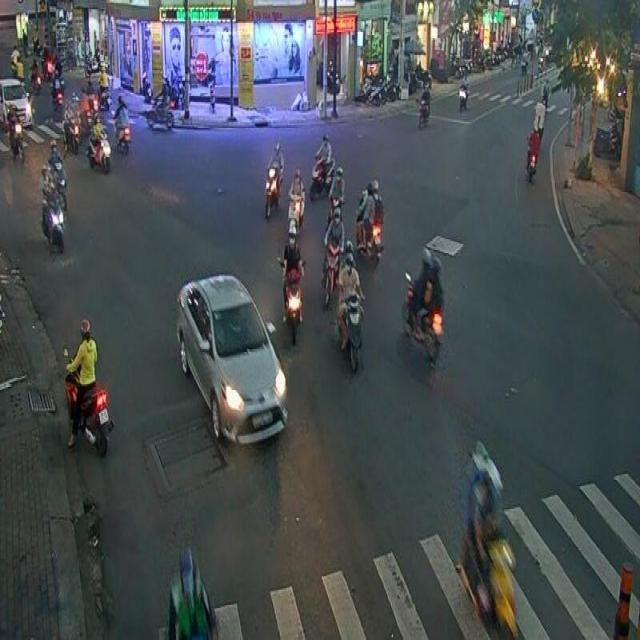car: (176, 276, 287, 442)
motorcycle: (62, 318, 114, 456), (278, 225, 306, 346), (337, 253, 365, 373), (356, 178, 383, 267), (322, 206, 345, 308), (39, 165, 65, 252), (310, 133, 335, 198), (86, 111, 112, 172), (264, 142, 284, 221), (287, 168, 305, 235)
